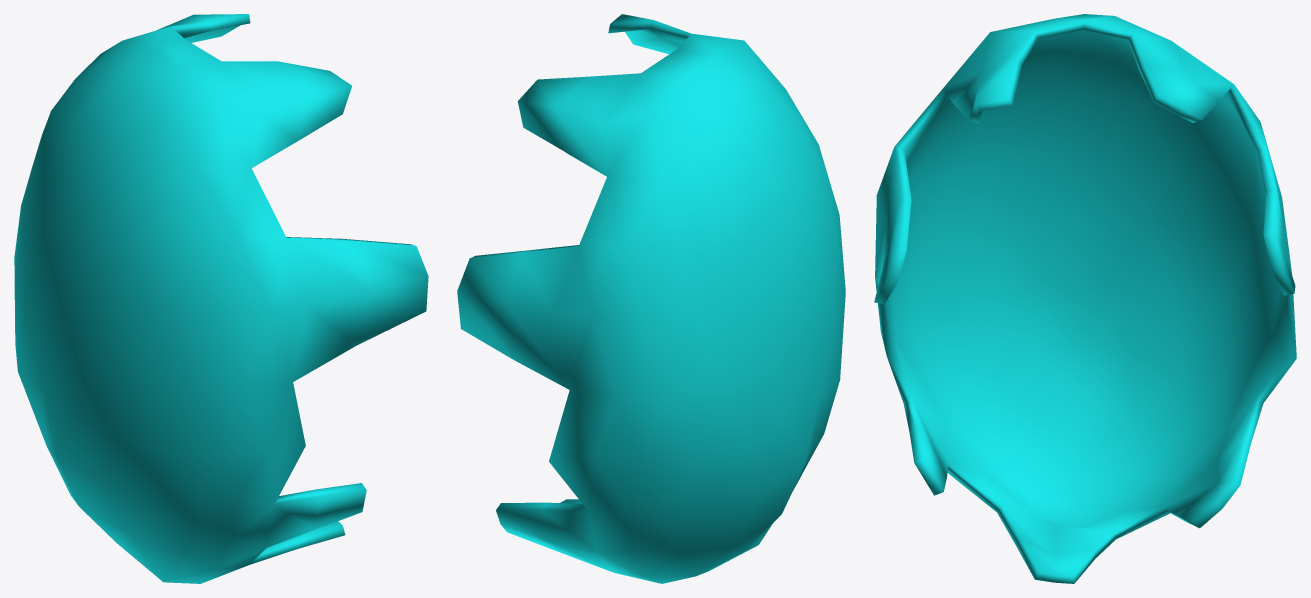
Rendered from SpeedBoostShield.fbx.
3 views of the same model, side by side, from view 1: azimuth 30°, elevation 25°; view 2: azimuth 150°, elevation 25°; view 3: azimuth 270°, elevation 25° (orthographic). The views are drawn at different scales.
Parts seen in each view (by area): view 1: Icosphere; view 2: Icosphere; view 3: Icosphere.
Boxes of the visible parts, left/top/right/bottom form: Icosphere: left=14, top=14, right=428, bottom=583; Icosphere: left=457, top=14, right=845, bottom=583; Icosphere: left=874, top=14, right=1296, bottom=583.
Size of the model in its own units: 202 by 277 by 372.
